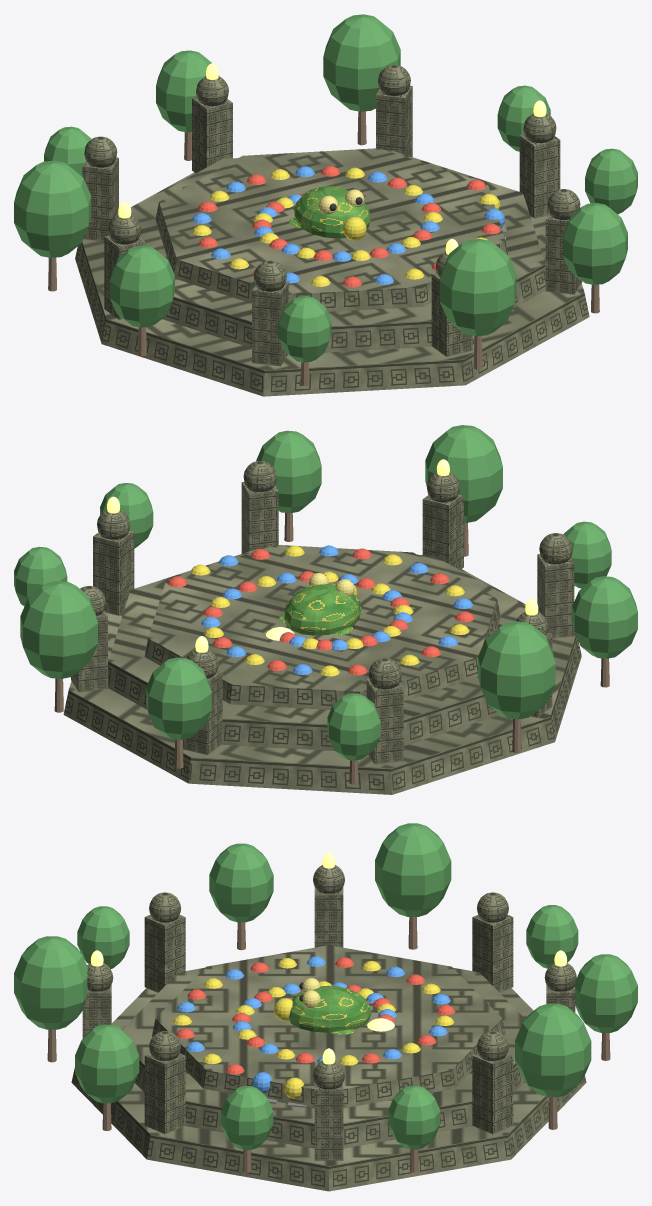
File: ch5_game_7.glb
3 renders of one model, top to bottom at view 1: azimuth 30°, elevation 25°; view 2: azimuth 150°, elevation 25°; view 3: azimuth 270°, elevation 25°, orthographic. The views are drawn at different scales.
Parts seen in each view (by area): view 1: tier.002, tier, tier.001, crown.005, crown.002, crown.008, crown.004, crown.001, crown.007, crown.003, idol, crown (+17 smaller); view 2: tier.002, tier, tier.001, crown.008, crown.005, crown.002, crown.007, crown.004, crown.001, frog_body, crown.006, idol (+15 smaller); view 3: tier.002, tier, tier.001, crown.008, crown.005, crown.002, crown.004, crown.001, crown.007, idol.001, idol.007, frog_body (+17 smaller).
Part boxes in pixels (left/top/right/bottom): tier.002: left=155, top=148, right=508, bottom=311; tier: left=75, top=172, right=589, bottom=396; tier.001: left=131, top=149, right=545, bottom=352; crown.005: left=14, top=160, right=91, bottom=257; crown.002: left=439, top=239, right=516, bottom=336; crown.008: left=323, top=14, right=400, bottom=111; crown.004: left=109, top=245, right=174, bottom=327; crown.001: left=563, top=203, right=627, bottom=284; crown.007: left=156, top=50, right=219, bottom=132; crown.003: left=278, top=296, right=331, bottom=362; idol: left=519, top=134, right=560, bottom=218; crown: left=585, top=148, right=637, bottom=214; tier.002: left=144, top=544, right=500, bottom=709; tier: left=63, top=569, right=581, bottom=794; tier.001: left=108, top=546, right=525, bottom=750; crown.008: left=20, top=581, right=97, bottom=678; crown.005: left=478, top=621, right=555, bottom=719; crown.002: left=425, top=425, right=502, bottom=522; crown.007: left=146, top=657, right=211, bottom=739; crown.004: left=572, top=576, right=637, bottom=658; crown.001: left=256, top=430, right=321, bottom=513; frog_body: left=284, top=583, right=360, bottom=635; crown.006: left=327, top=693, right=380, bottom=760; idol: left=93, top=530, right=134, bottom=615; tier.002: left=152, top=945, right=505, bottom=1108; tier: left=71, top=988, right=586, bottom=1191; tier.001: left=122, top=967, right=524, bottom=1148; crown.008: left=515, top=1003, right=591, bottom=1097; crown.005: left=375, top=823, right=451, bottom=916; crown.002: left=14, top=936, right=87, bottom=1029; crown.004: left=209, top=843, right=273, bottom=922; crown.001: left=75, top=1024, right=139, bottom=1103; crown.007: left=574, top=954, right=637, bottom=1032; idol.001: left=144, top=1053, right=185, bottom=1134; idol.007: left=472, top=1053, right=513, bottom=1134; frog_body: left=289, top=985, right=371, bottom=1032.
Bounding box in the file's own units: 18.31 × 4.98 × 19.38.
Materials: 12 (2 with a texture image).
